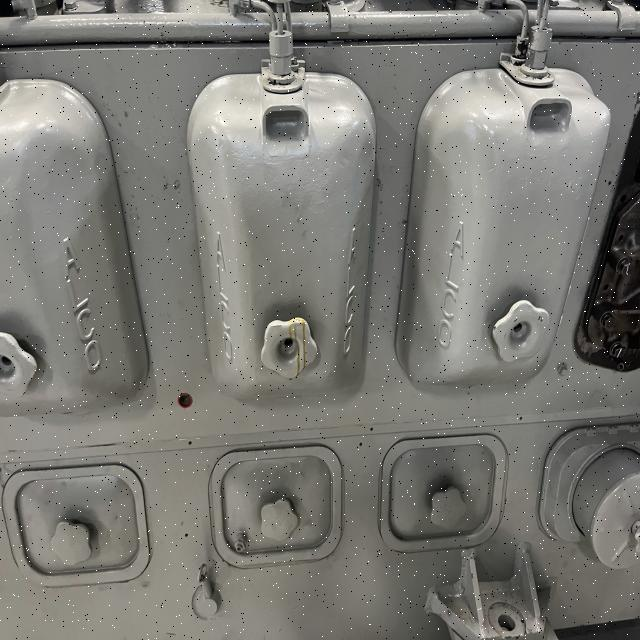Oil Leak: (284, 317, 309, 377)
